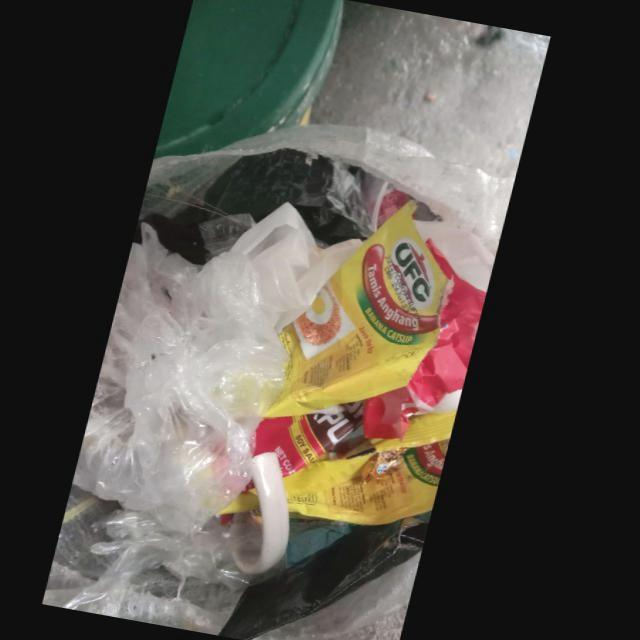plastic_bag: (80, 201, 367, 533)
plastic_sachet: (272, 199, 452, 417), (291, 410, 464, 525), (261, 400, 370, 477)
